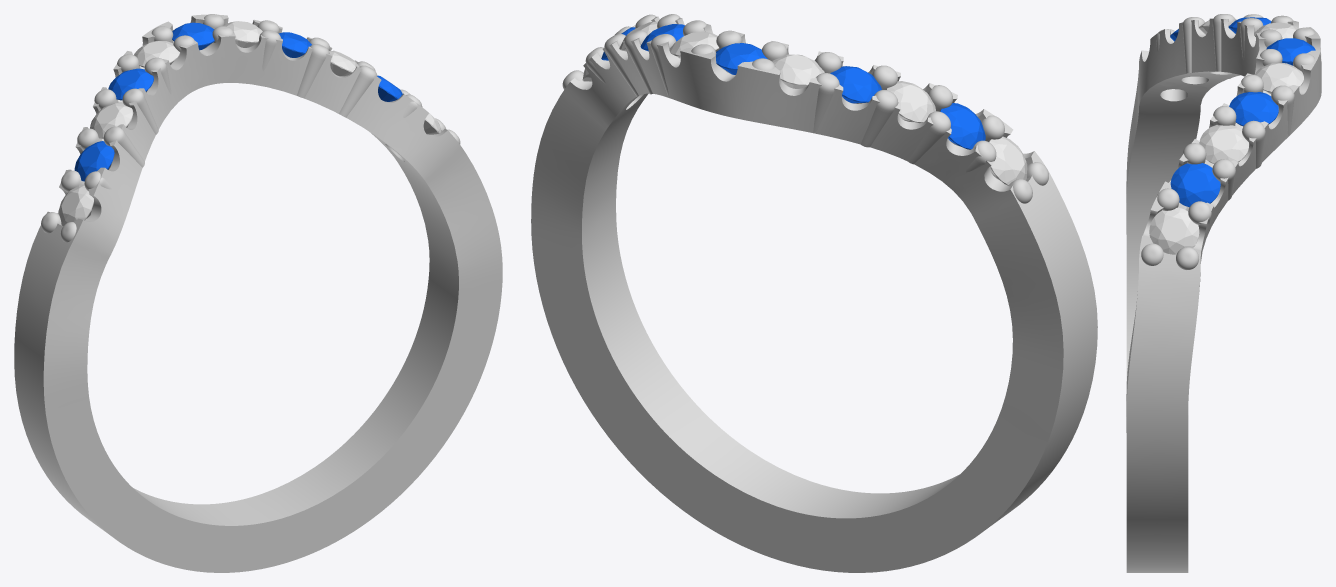
Rendered from DaniellePTwb2_blender.glb.
3 renders of one model, left to right at view 1: azimuth 30°, elevation 25°; view 2: azimuth 150°, elevation 25°; view 3: azimuth 270°, elevation 25°, orthographic. The views are drawn at different scales.
Parts seen in each view (by area): view 1: Danielle 2 PT for 3d model, Danielle dia for 3d model.005, Danielle sapph wb for 3d model.004, Danielle dia for 3d model.004, Danielle sapph wb for 3d model.003, Danielle dia for 3d model.003, Danielle sapph wb for 3d model.002, Danielle dia for 3d model.002; view 2: Danielle 2 PT for 3d model, Danielle sapph wb for 3d model.004, Danielle dia for 3d model.005, Danielle dia for 3d model.004, Danielle sapph wb for 3d model.003, Danielle dia for 3d model.003, Danielle sapph wb for 3d model.002; view 3: Danielle 2 PT for 3d model, Danielle dia for 3d model, Danielle sapph wb for 3d model, Danielle dia for 3d model.001, Danielle sapph wb for 3d model.001, Danielle dia for 3d model.002, Danielle sapph wb for 3d model.002, Danielle dia for 3d model.003.
Boxes of the visible parts, <box> form: Danielle 2 PT for 3d model: <box>14,14,502,572</box>; Danielle dia for 3d model.005: <box>58,184,93,225</box>; Danielle sapph wb for 3d model.004: <box>74,141,114,181</box>; Danielle dia for 3d model.004: <box>90,102,133,138</box>; Danielle sapph wb for 3d model.003: <box>108,68,153,100</box>; Danielle dia for 3d model.003: <box>134,41,180,67</box>; Danielle sapph wb for 3d model.002: <box>172,22,214,50</box>; Danielle dia for 3d model.002: <box>223,21,262,47</box>; Danielle 2 PT for 3d model: <box>531,14,1097,572</box>; Danielle sapph wb for 3d model.004: <box>940,103,985,149</box>; Danielle dia for 3d model.005: <box>989,136,1027,185</box>; Danielle dia for 3d model.004: <box>886,81,935,123</box>; Danielle sapph wb for 3d model.003: <box>830,66,881,103</box>; Danielle dia for 3d model.003: <box>772,54,824,88</box>; Danielle sapph wb for 3d model.002: <box>716,43,767,74</box>; Danielle 2 PT for 3d model: <box>1126,14,1321,572</box>; Danielle dia for 3d model: <box>1149,207,1199,254</box>; Danielle sapph wb for 3d model: <box>1170,163,1220,207</box>; Danielle dia for 3d model.001: <box>1199,125,1249,163</box>; Danielle sapph wb for 3d model.001: <box>1229,92,1278,126</box>; Danielle dia for 3d model.002: <box>1255,63,1303,93</box>; Danielle sapph wb for 3d model.002: <box>1266,38,1315,65</box>; Danielle dia for 3d model.003: <box>1254,22,1298,39</box>.
Bounding box in the file's own units: 18.89 × 19.01 × 6.65.
